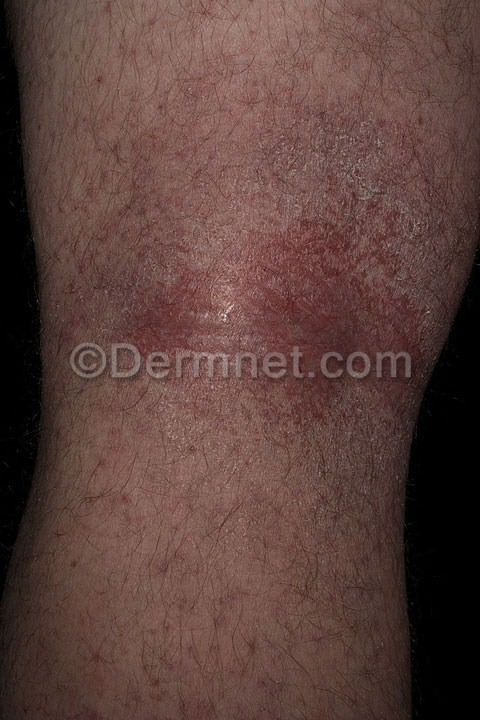Eczema: (32, 74, 458, 712)
